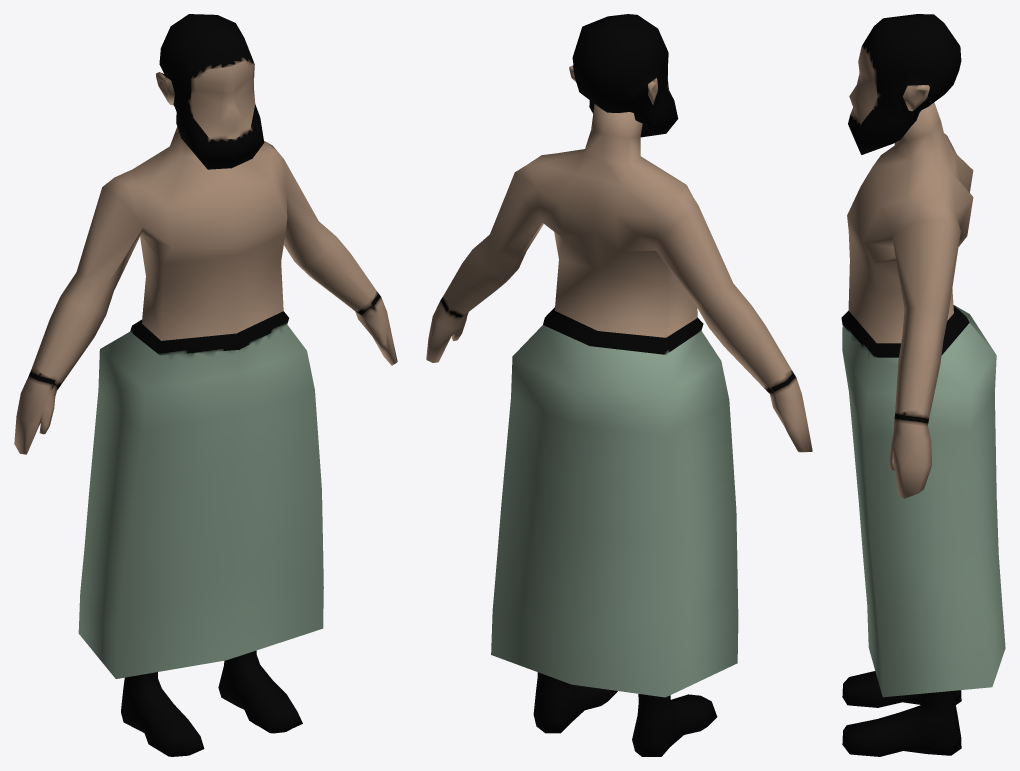
The model's file is midEnemy_Mesh.fbx.
3 renders of one model, left to right at view 1: azimuth 30°, elevation 25°; view 2: azimuth 150°, elevation 25°; view 3: azimuth 270°, elevation 25°, orthographic.
Visible parts, largest first — view 1: midEnemy_Mesh; view 2: midEnemy_Mesh; view 3: midEnemy_Mesh.
Boxes of the visible parts, x1,y1,x2,y2 form: midEnemy_Mesh: [14, 14, 397, 756]; midEnemy_Mesh: [426, 14, 812, 756]; midEnemy_Mesh: [841, 14, 1005, 756].
Bounding box in the file's own units: 110 × 195 × 40.96.
Materials: 1 (1 with a texture image).
